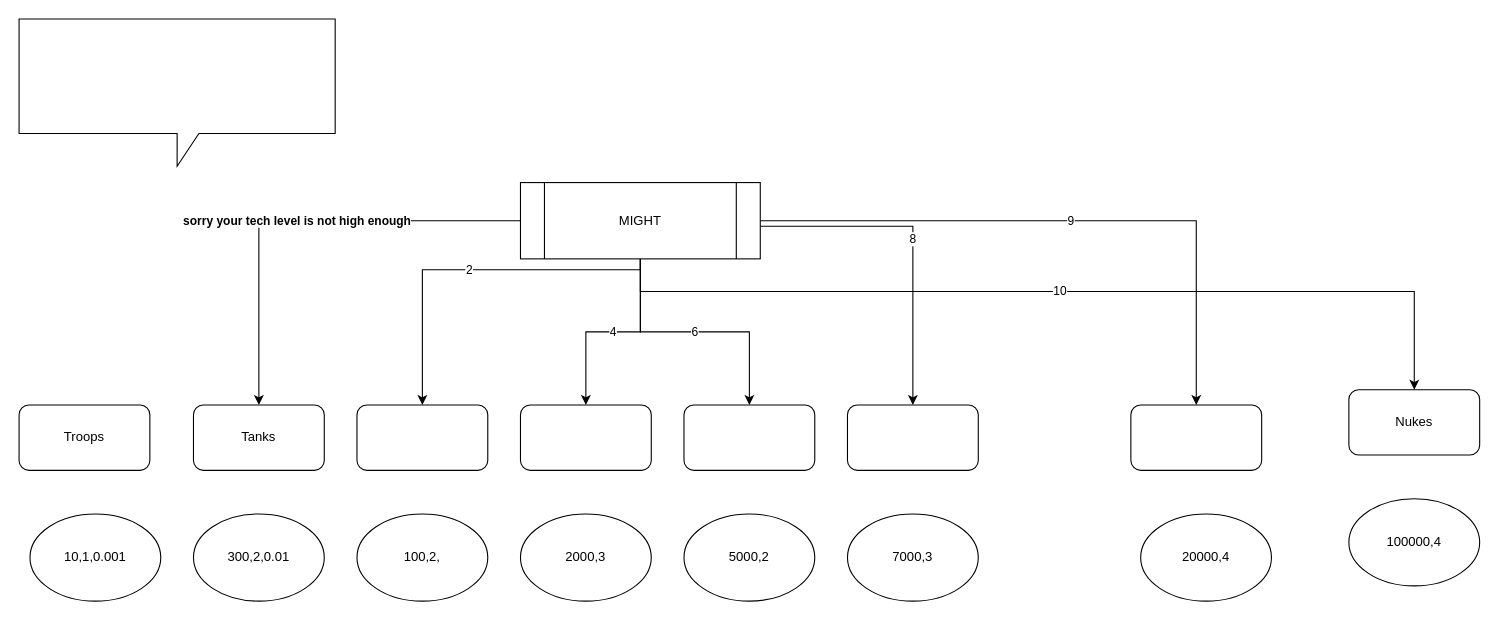
Image size: 1499x620. Some labels were removed from this diagram. The centre of each missing label's shape, as x and y in pixels:
"Aircraft Carrier" goes at (x=1196, y=437).
"Bomber" goes at (x=912, y=437).
"BUILD" goes at (x=176, y=92).
"Destroyers" goes at (x=585, y=437).
"Fighter Jets" goes at (x=749, y=437).
"gunboats" goes at (x=422, y=437).
